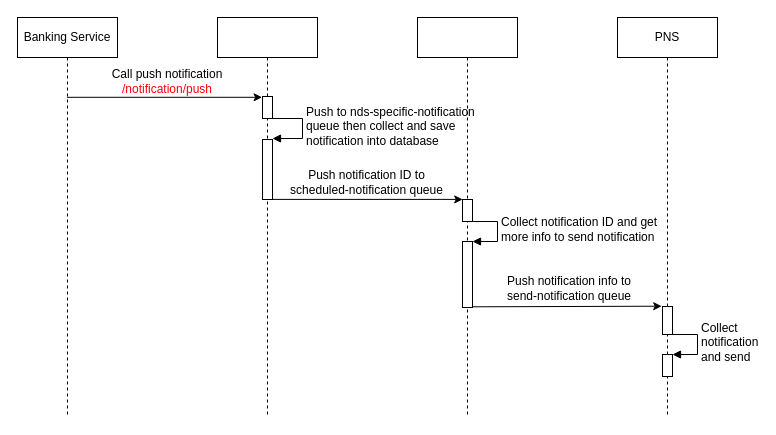
Some shapes in this 776 by 435 pixel diagram are drawn without their labels. Each missing label, with the centre of its shape:
"NDS" goes at (267,217).
"Notification Engine" goes at (467,217).
